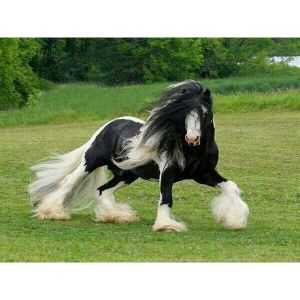horse: (26, 78, 252, 234)
